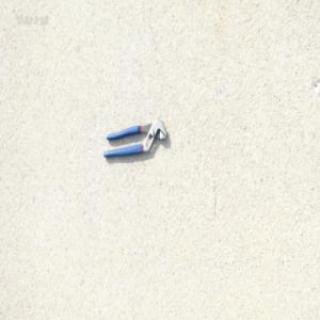Pliertrack_idkeyframe: (101, 117, 168, 159)
